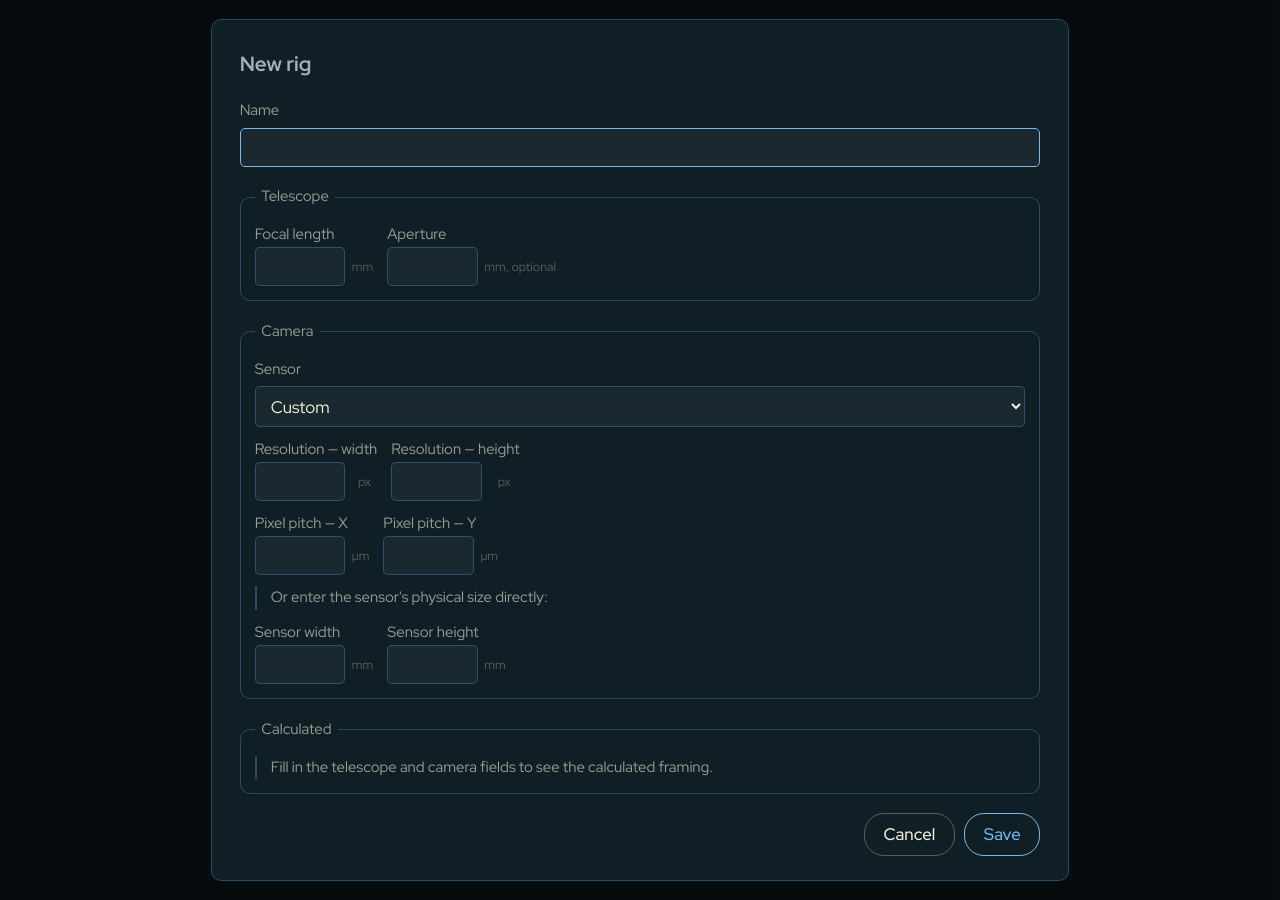
Scenario: live-linked mm and pitch › editing the pitch updates the displayed mm
Type "1000" into the number field labelled "Resolution — height px".
click(437, 481); type("1000")  # box x1=391 y1=462 x2=482 y2=501
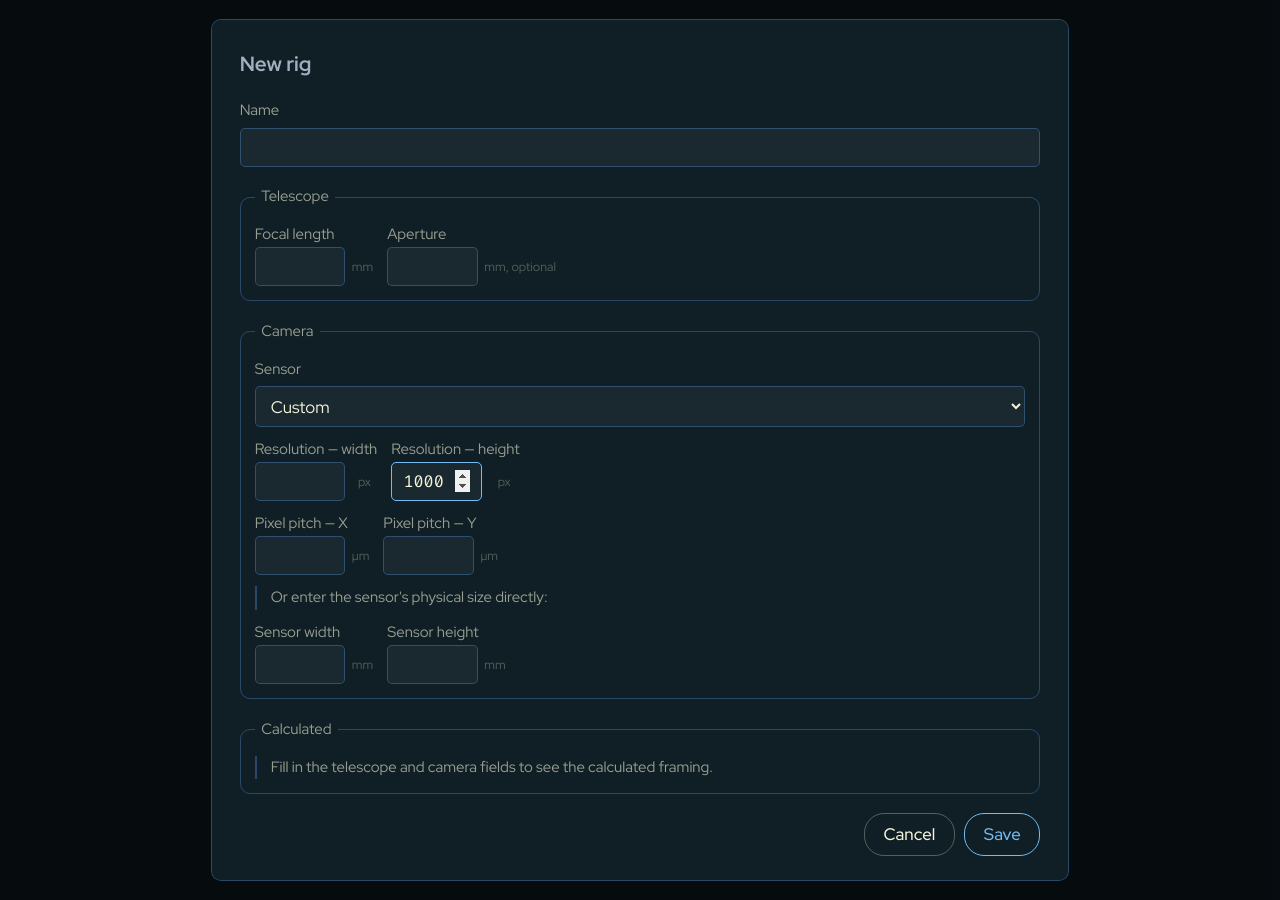
Type "5" into the number field labelled "Pixel pitch — Y µm".
click(429, 555); type("5")  # box x1=383 y1=536 x2=474 y2=575
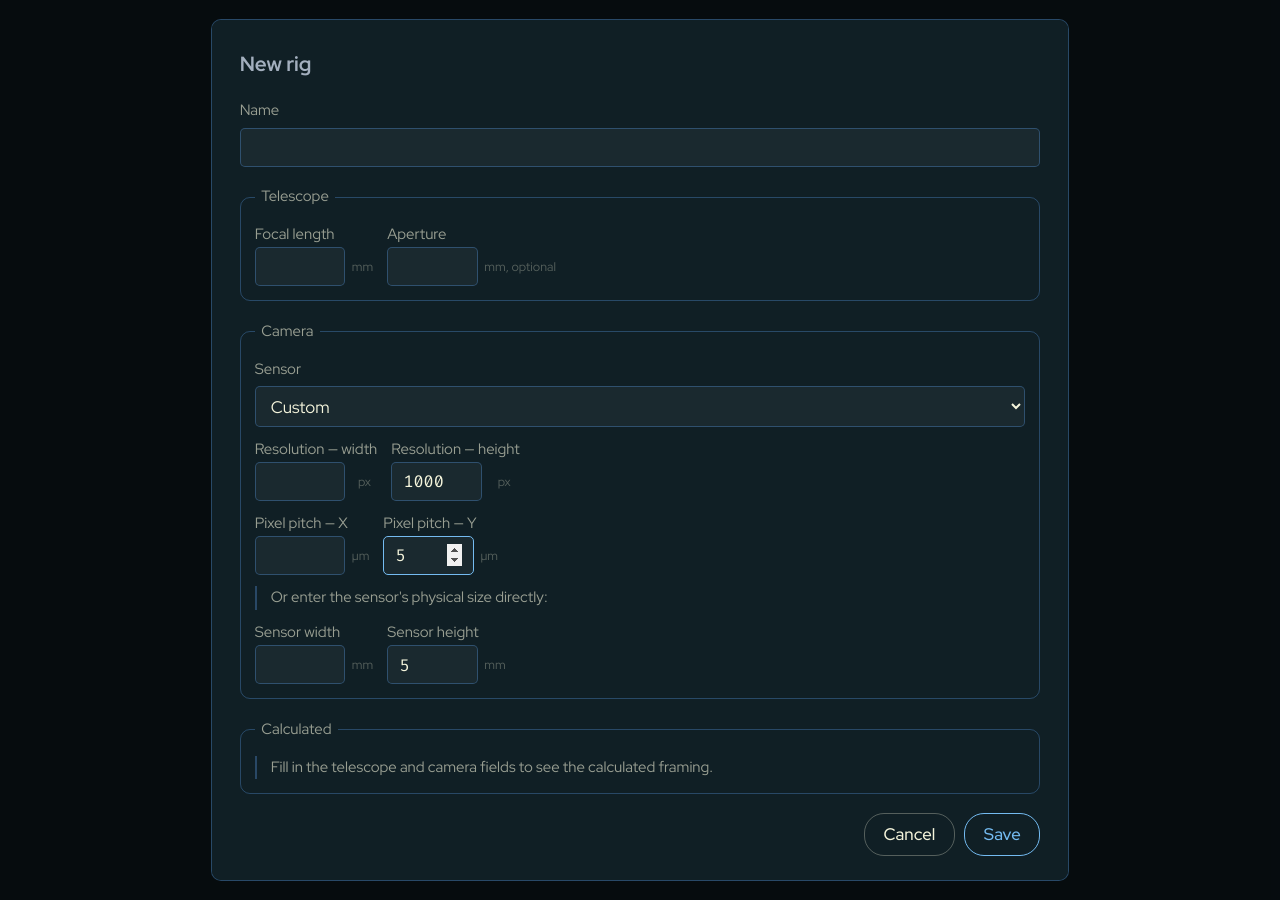
expect the number field labelled "Sensor height mm" holds "5": met, box x1=387 y1=645 x2=478 y2=684
